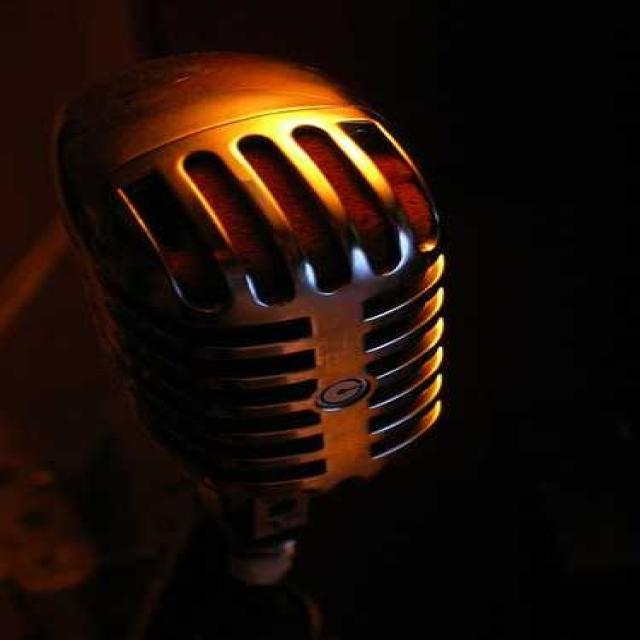microphone: (39, 48, 450, 634)
